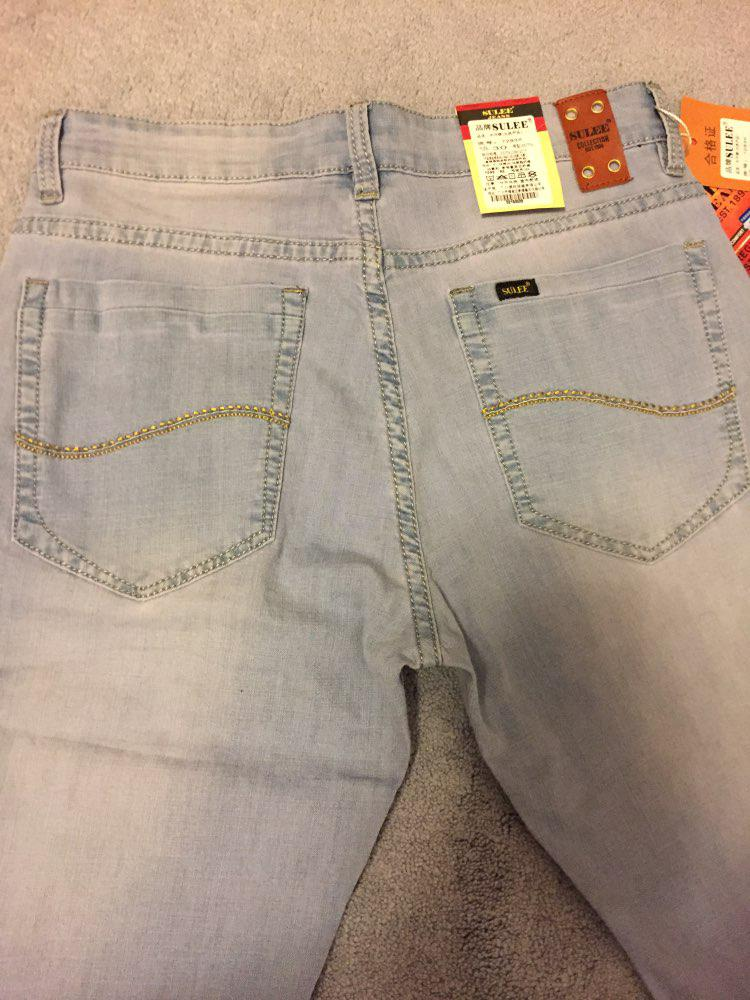jeans: (34, 106, 750, 924)
